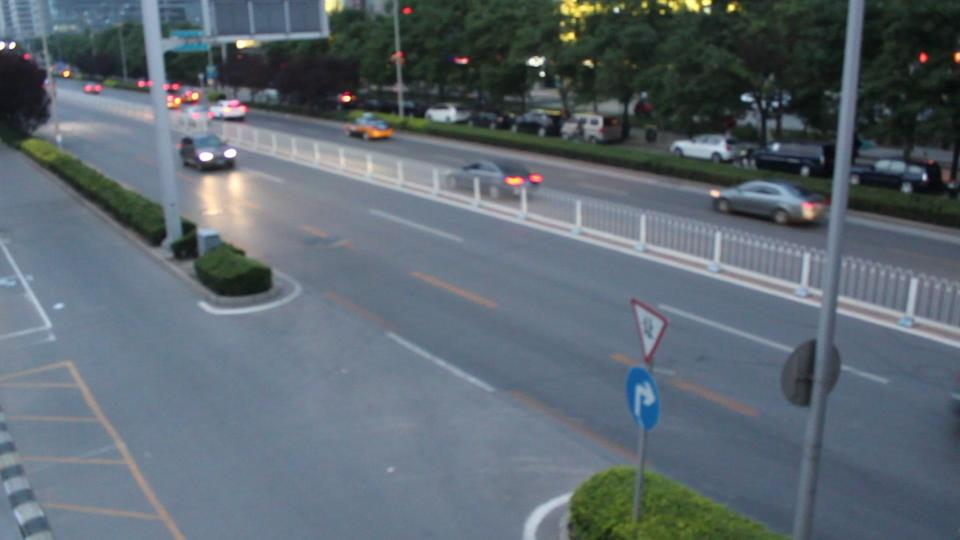car: (709, 180, 832, 226), (444, 160, 544, 197), (850, 158, 947, 193), (751, 141, 833, 177), (670, 134, 758, 165), (179, 133, 238, 171), (561, 114, 626, 145), (342, 116, 396, 141), (424, 103, 473, 124), (210, 99, 248, 120), (83, 82, 104, 95)
sign: (619, 367, 670, 439), (625, 299, 670, 364)
traffic light: (395, 1, 417, 32)
